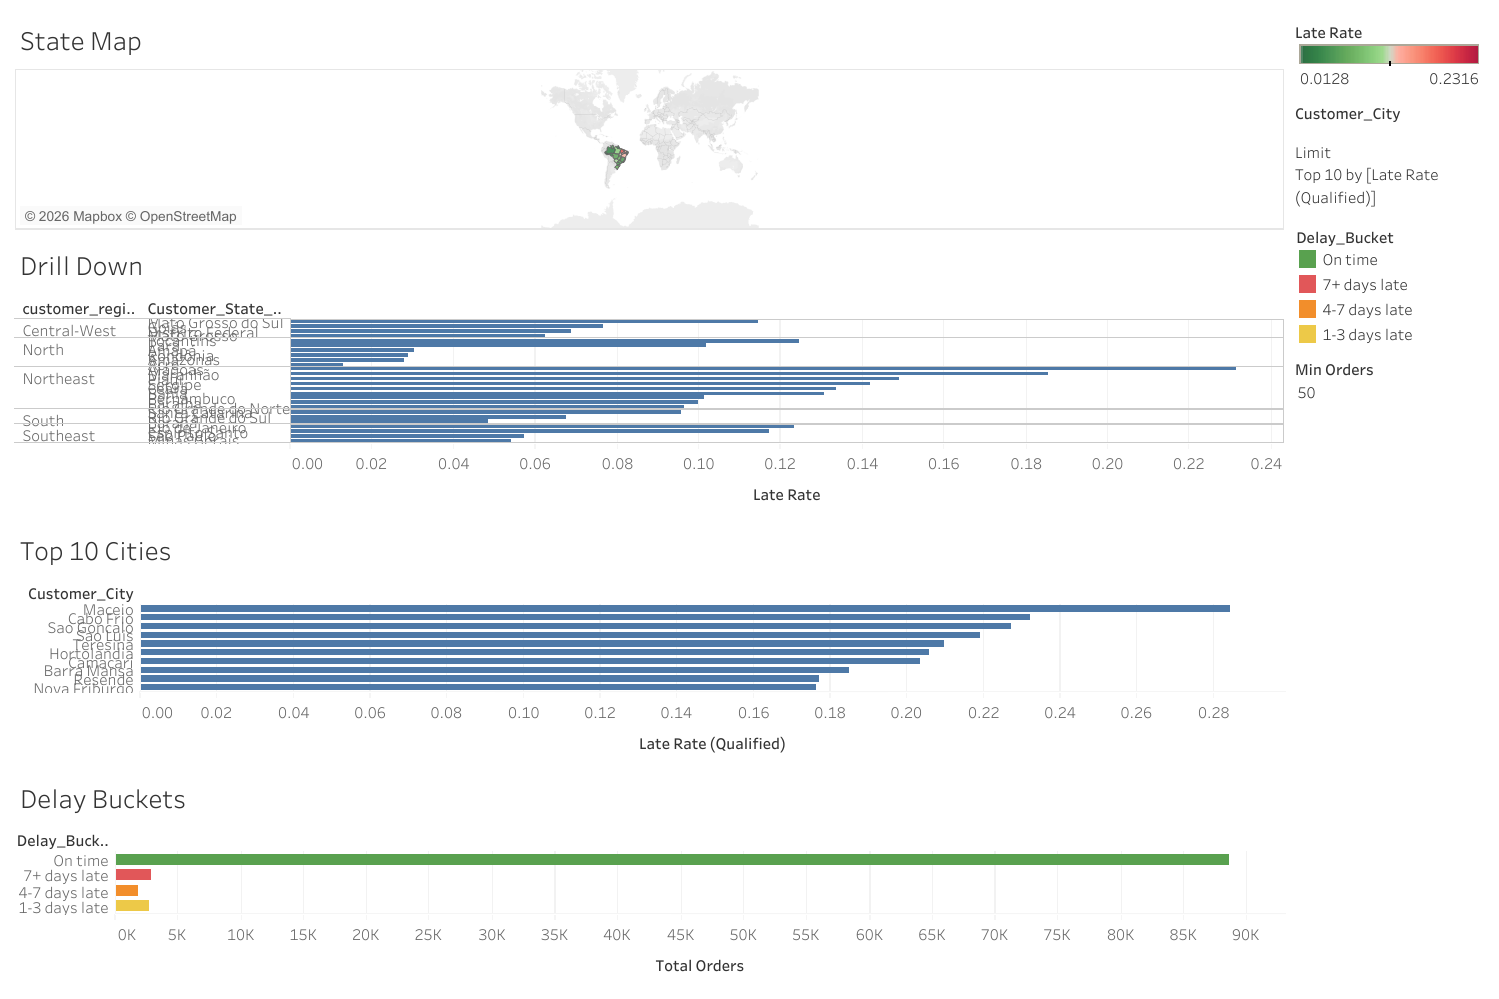

Layout of this report page (visuals, bound fields, positions):
{"tool":"tableau","page":{"name":"Delay Hotspots","canvas":[1200,800],"ordinal":1},"visuals":[{"type":"worksheet","title":"State Map","mark":"Multipolygon","box":[8,8,1024,179.9]},{"type":"legend","title":"State Map","param":"[federated.0lywm801rpjyfs19sa0tz1ya7n22].[usr:Calculation_1560810802462722:qk]","box":[1032,8,160,73]},{"type":"filter","title":"Top 10 Cities","param":"[federated.0lywm801rpjyfs19sa0tz1ya7n22].[none:customer_city:nk]","box":[1032,81,160,129]},{"type":"worksheet","title":"Drill Down","mark":"Automatic","rows":["customer_region","customer_state_name"],"cols":["Calculation_1560810802462722"],"box":[8,187.9,1024,228]},{"type":"legend","title":"Delay Buckets","param":"[federated.0lywm801rpjyfs19sa0tz1ya7n22].[none:delay_bucket:nk]","box":[1032,210,160,114]},{"type":"parameter","param":"[Parameters].[Parameter 1560810803068936]","box":[1032,324,160,56]},{"type":"worksheet","title":"Top 10 Cities","mark":"Automatic","rows":["customer_city"],"cols":["Calculation_1560810803277834"],"box":[8,416,1024,198]},{"type":"worksheet","title":"Delay Buckets","mark":"Automatic","rows":["delay_bucket"],"cols":["Calculation_1560810801852416"],"box":[8,614,1024,178]}]}

Visuals, with their boxes in screenshot pixels (x1, y1, x2, y2), scaled from the page's 1200x800 canvas onto the 1499x999 screenshot:
"State Map" worksheet (Multipolygon marks): bbox=[10, 10, 1289, 235]
"State Map" legend: bbox=[1289, 10, 1489, 101]
"Top 10 Cities" filter: bbox=[1289, 101, 1489, 262]
"Drill Down" worksheet: bbox=[10, 235, 1289, 519]
"Delay Buckets" legend: bbox=[1289, 262, 1489, 405]
parameter: bbox=[1289, 405, 1489, 475]
"Top 10 Cities" worksheet: bbox=[10, 519, 1289, 767]
"Delay Buckets" worksheet: bbox=[10, 767, 1289, 989]
